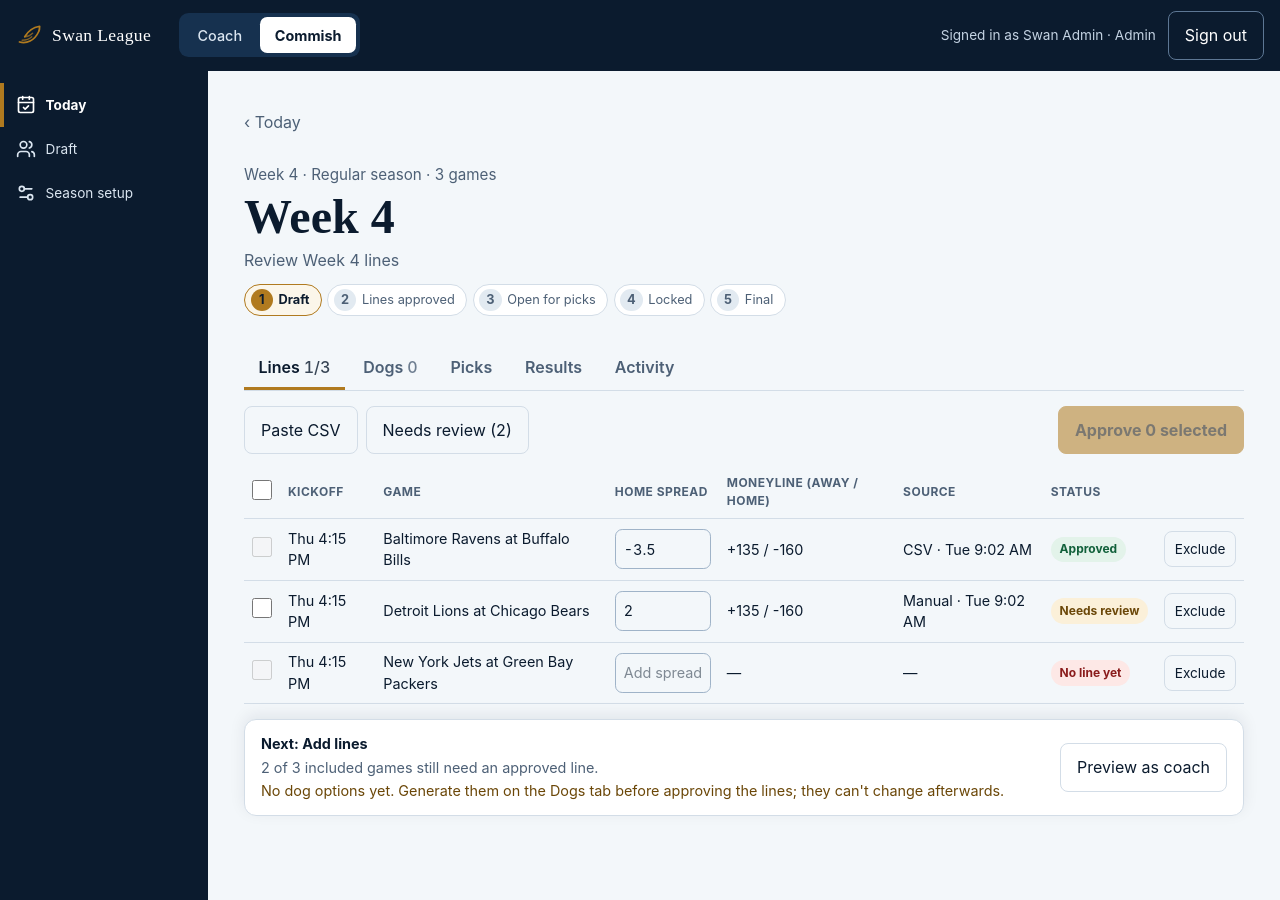
Test: approve selected approves a reviewed line as it is and saves and approves a typed one
Expected: the table named "Lines" is shown, [244,466,1244,704]
Expected: the button "Approve 0 selected" is disabled, [1058,406,1244,454]
Type "+7" into the field named "Spread for Packers" at (663, 673), box [615,653,711,693]
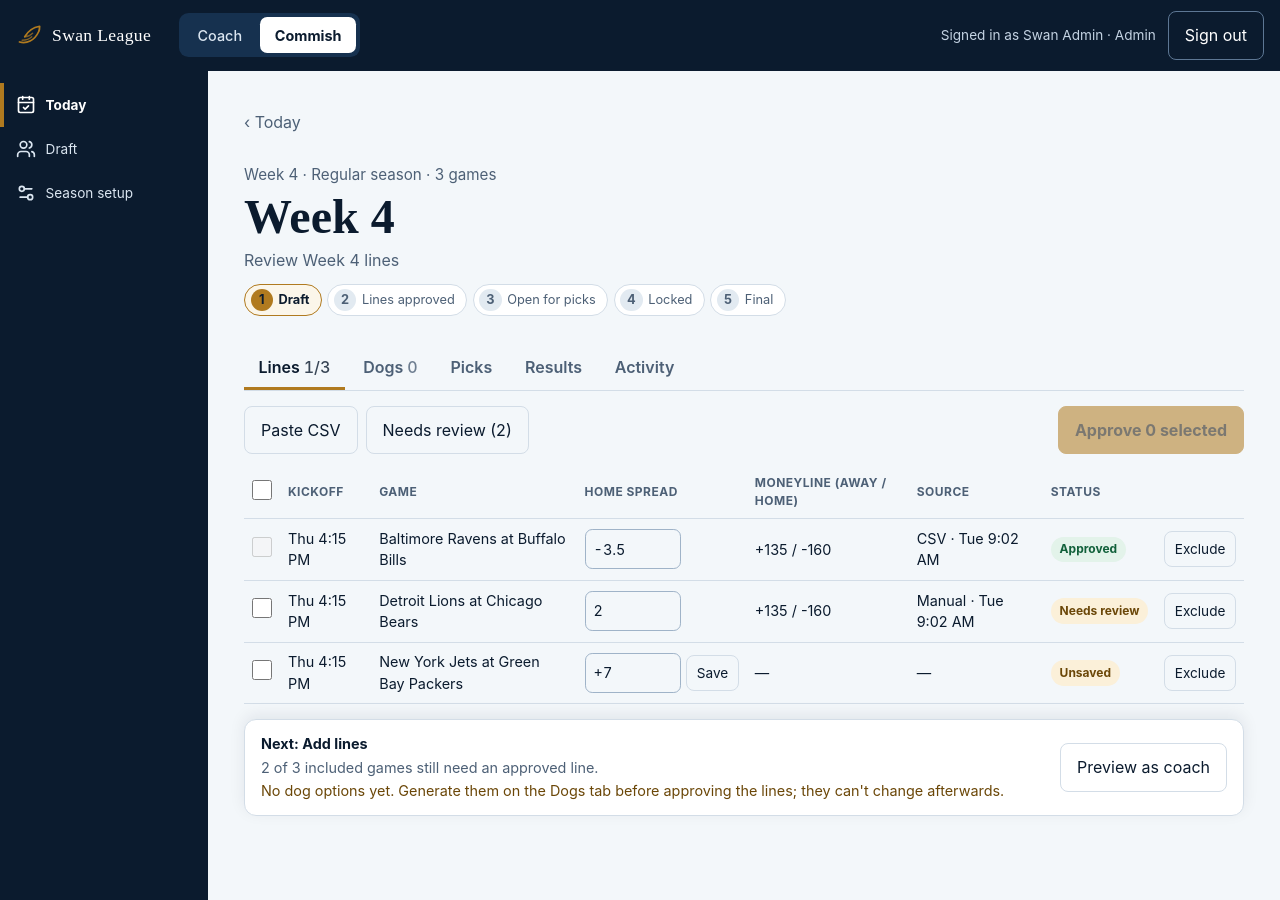
Click the checkbox named "Select all lines that need review" at (262, 490), box [252,480,272,500]
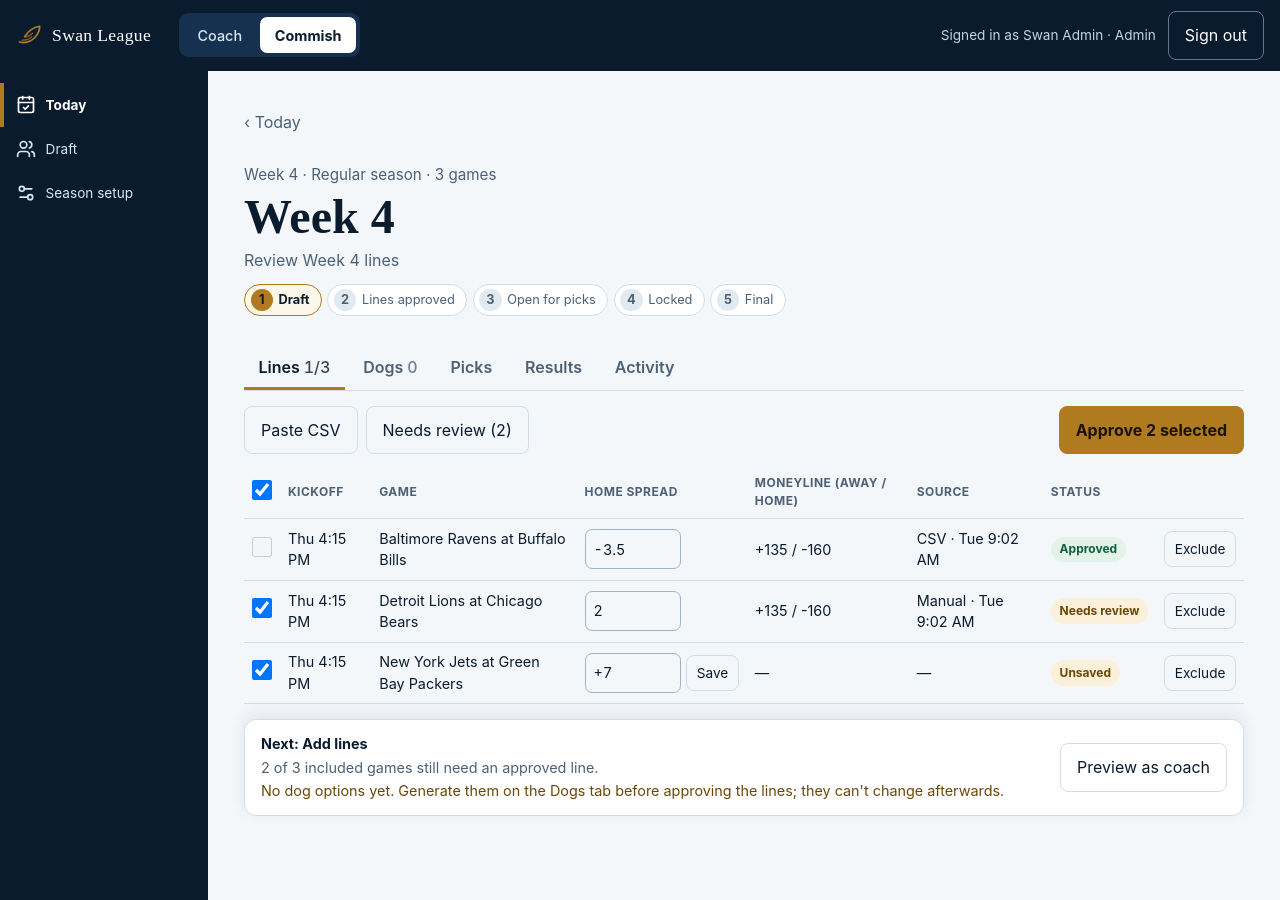
Click the button "Approve 2 selected" at (1151, 430), box [1059,406,1244,454]
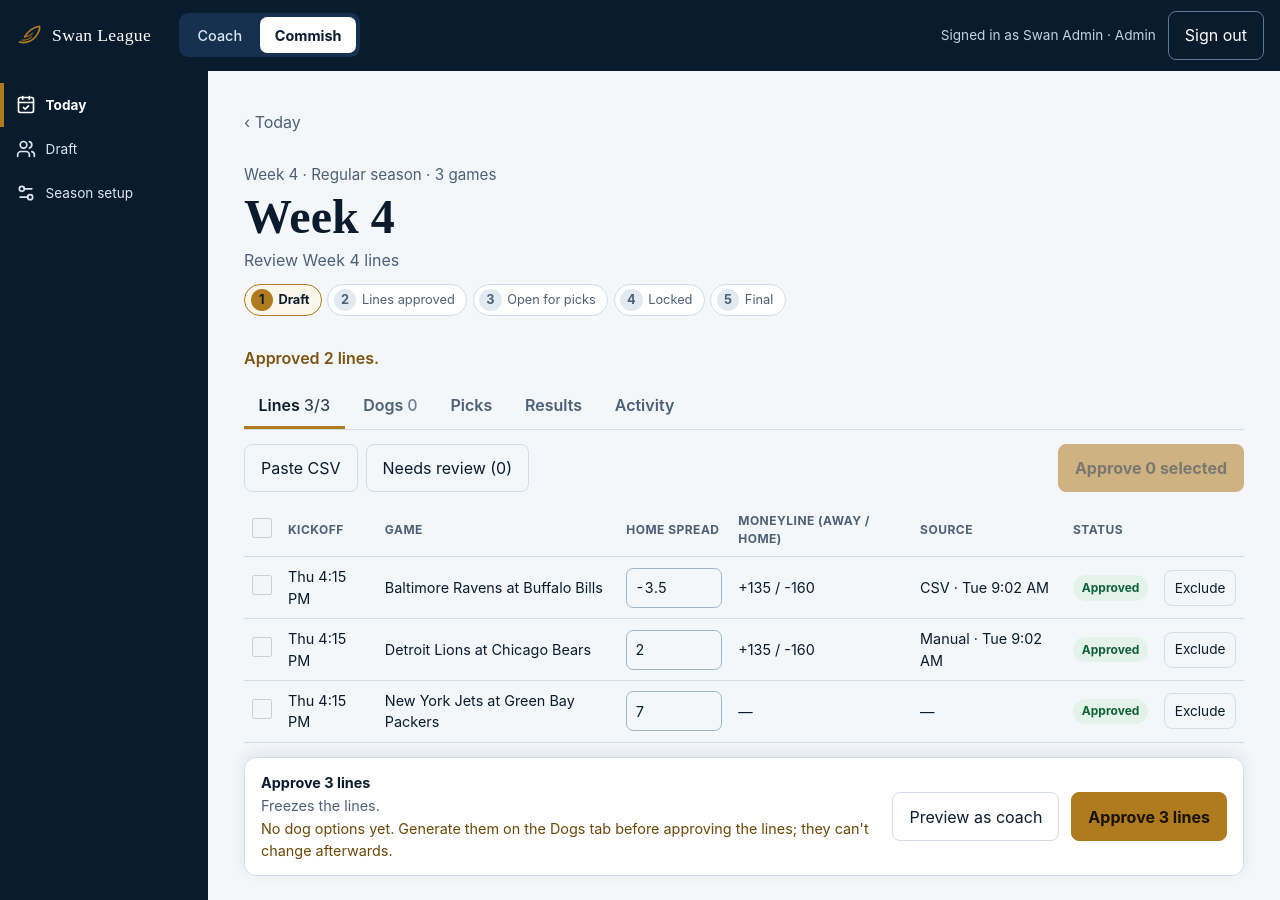
Result: the text "Approved 2 lines." is shown at [244,348,379,368]
Result: the tab "Lines 3/3" is shown at [244,385,345,429]
Result: the button "Approve 0 selected" is shown at [1058,444,1244,492]
